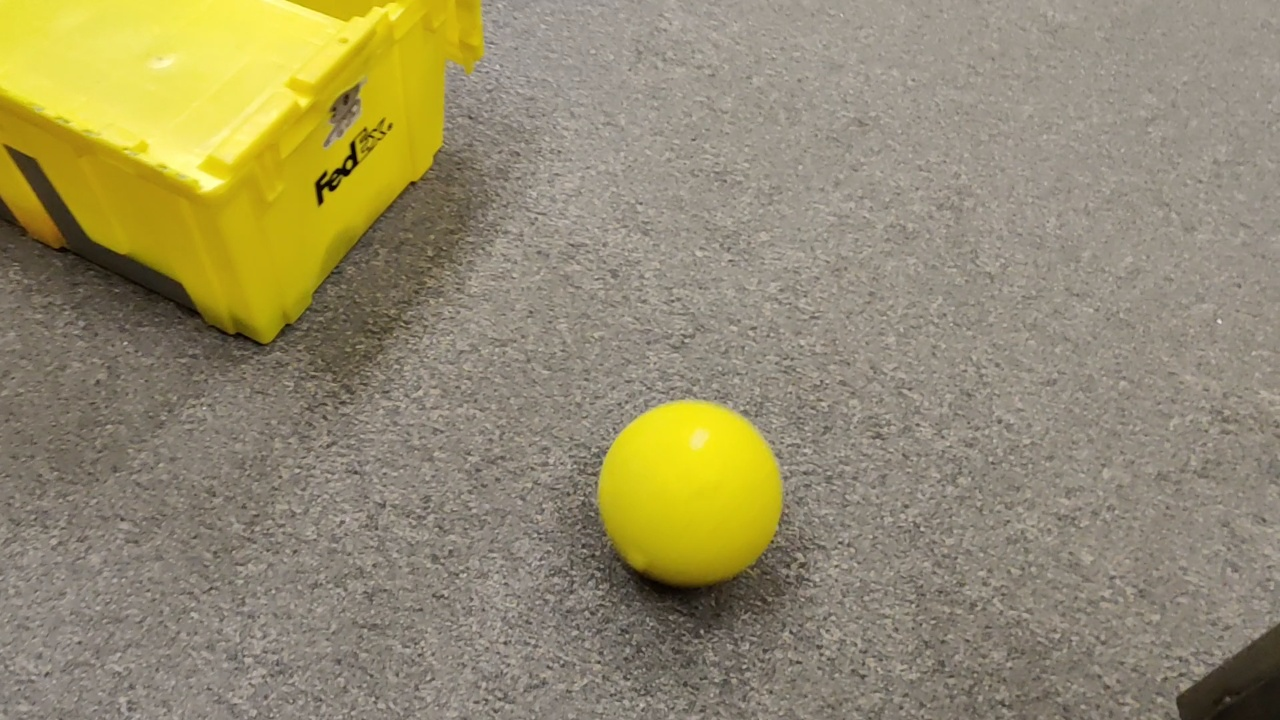Ball: (599, 398, 782, 588)
